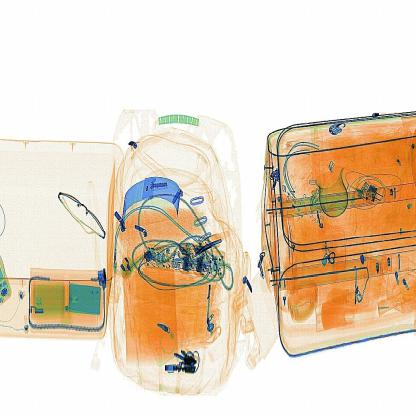pliers: (191, 228, 233, 256)
